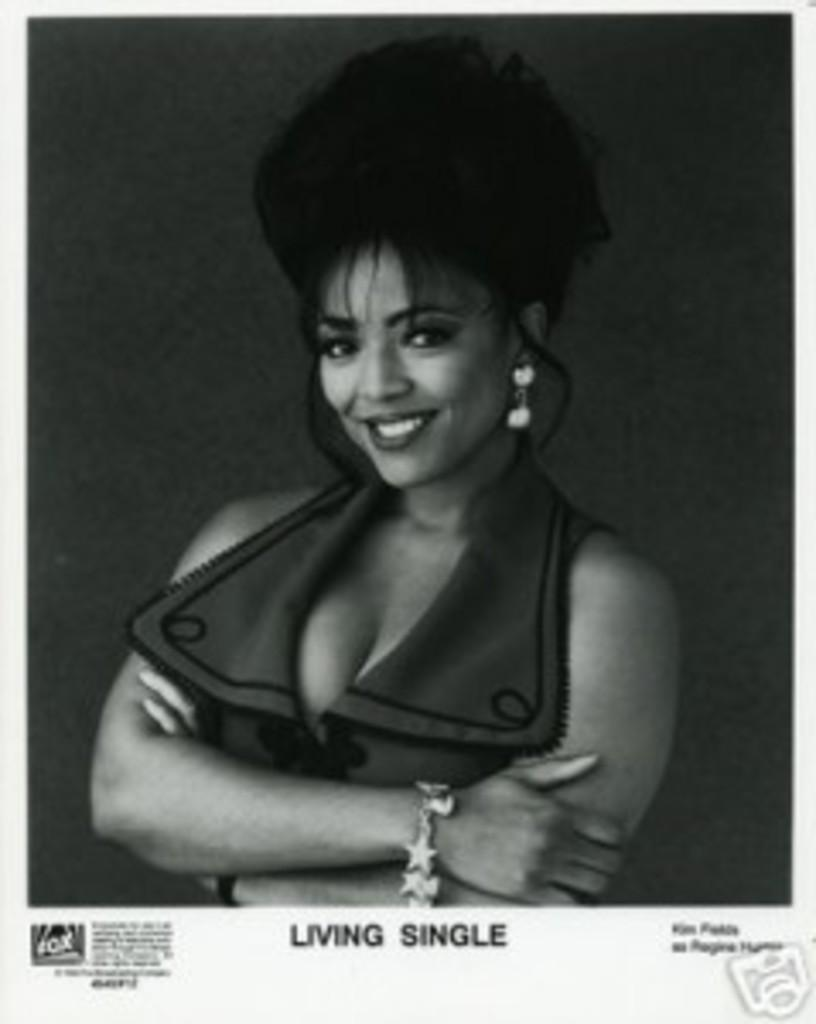Sem Máscara: (315, 244, 517, 479)
